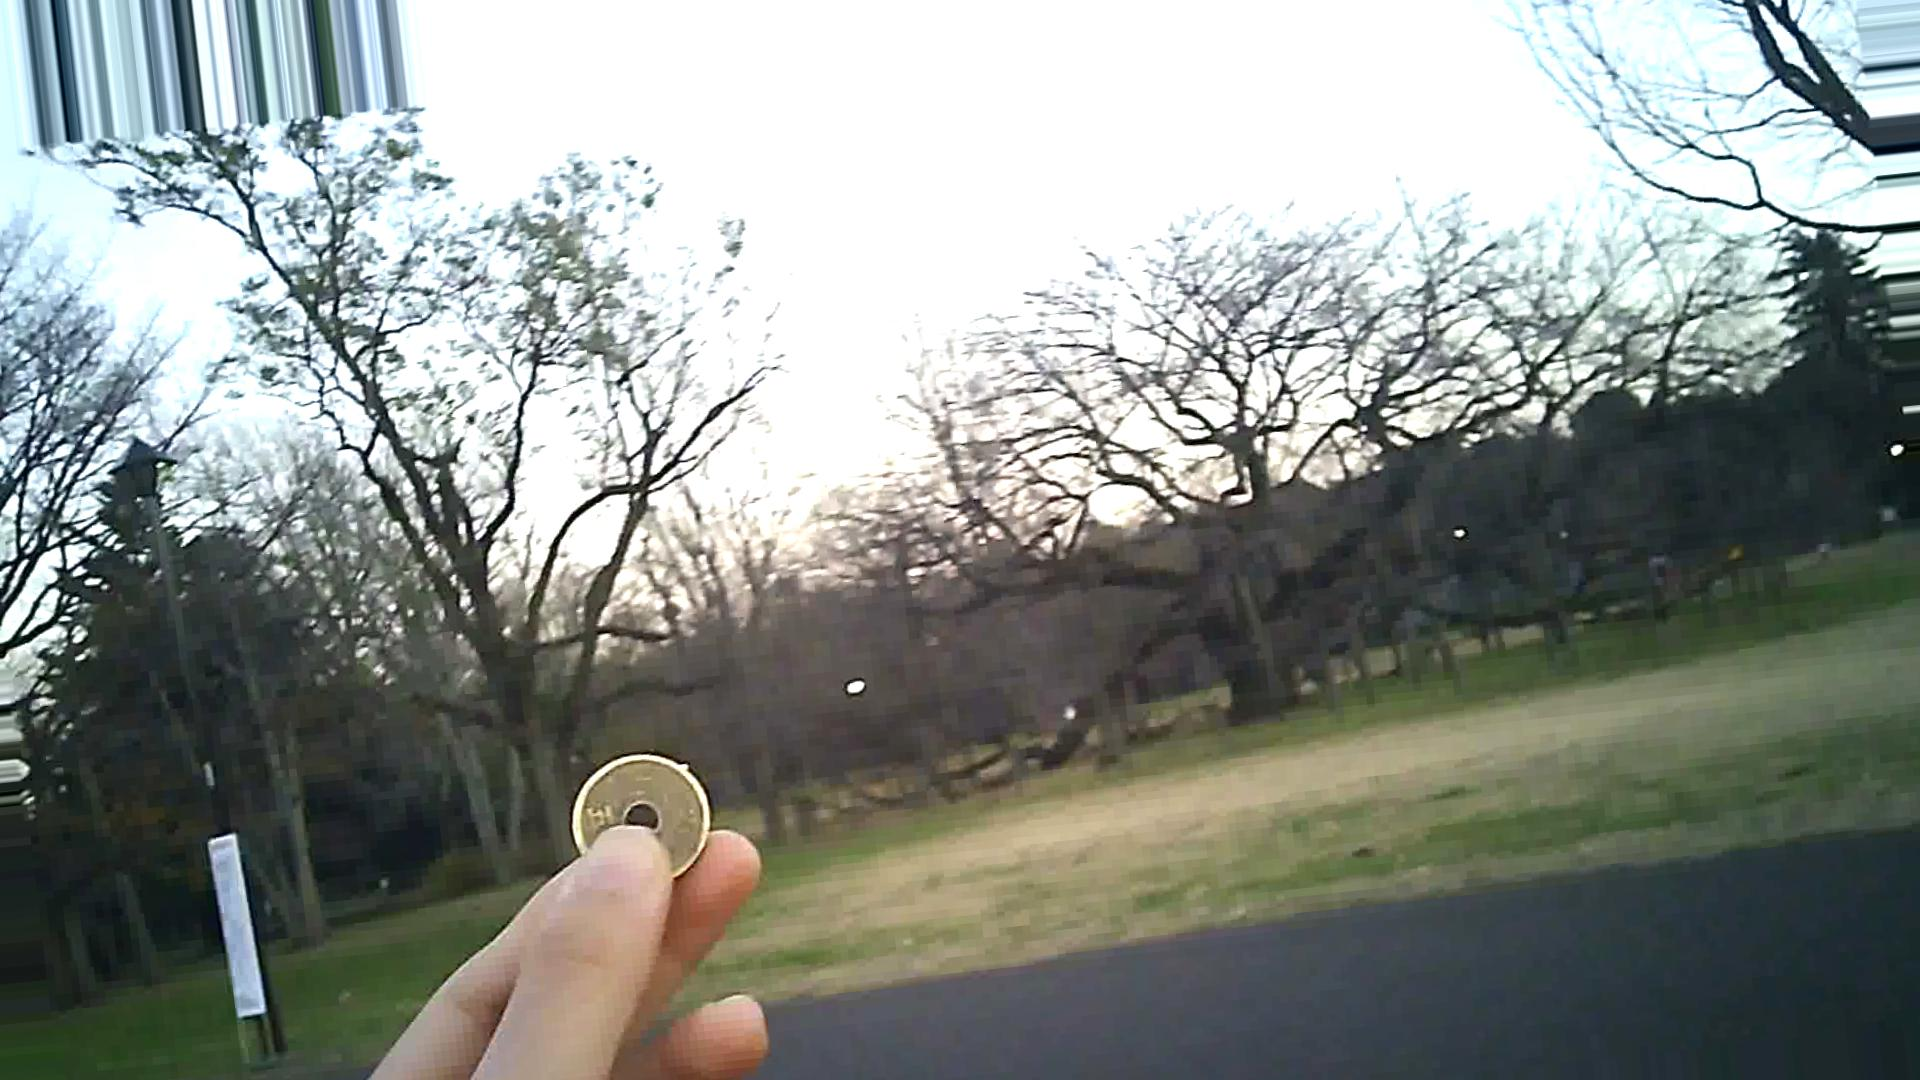5 Yen: (553, 752, 716, 889)
